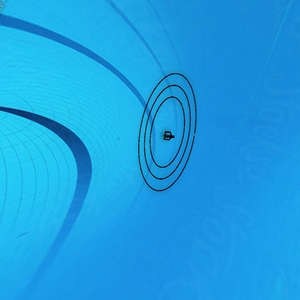circle: (140, 71, 197, 193)
submarine: (163, 132, 175, 142)
